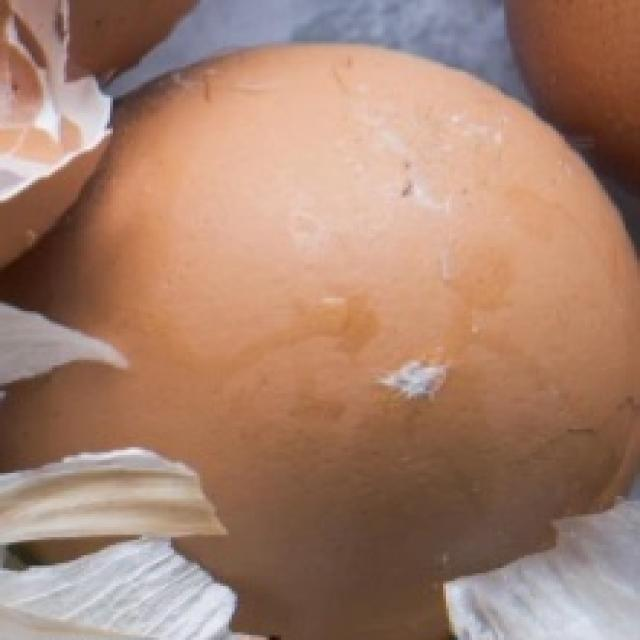food waste: (16, 0, 640, 613)
